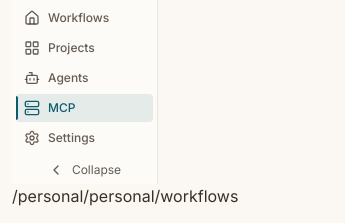
Test: AppNavBar settings navigation › routes Settings to workspace environments
Click the button "Settings". click: (84, 138)
box: [16,124,153,152]
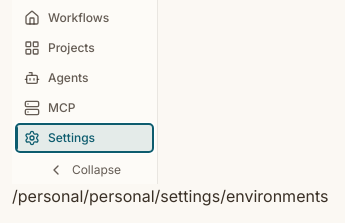
Check: the text with test id "location-probe" reads "/personal/personal/settings/environments", box [12,186,328,206]
